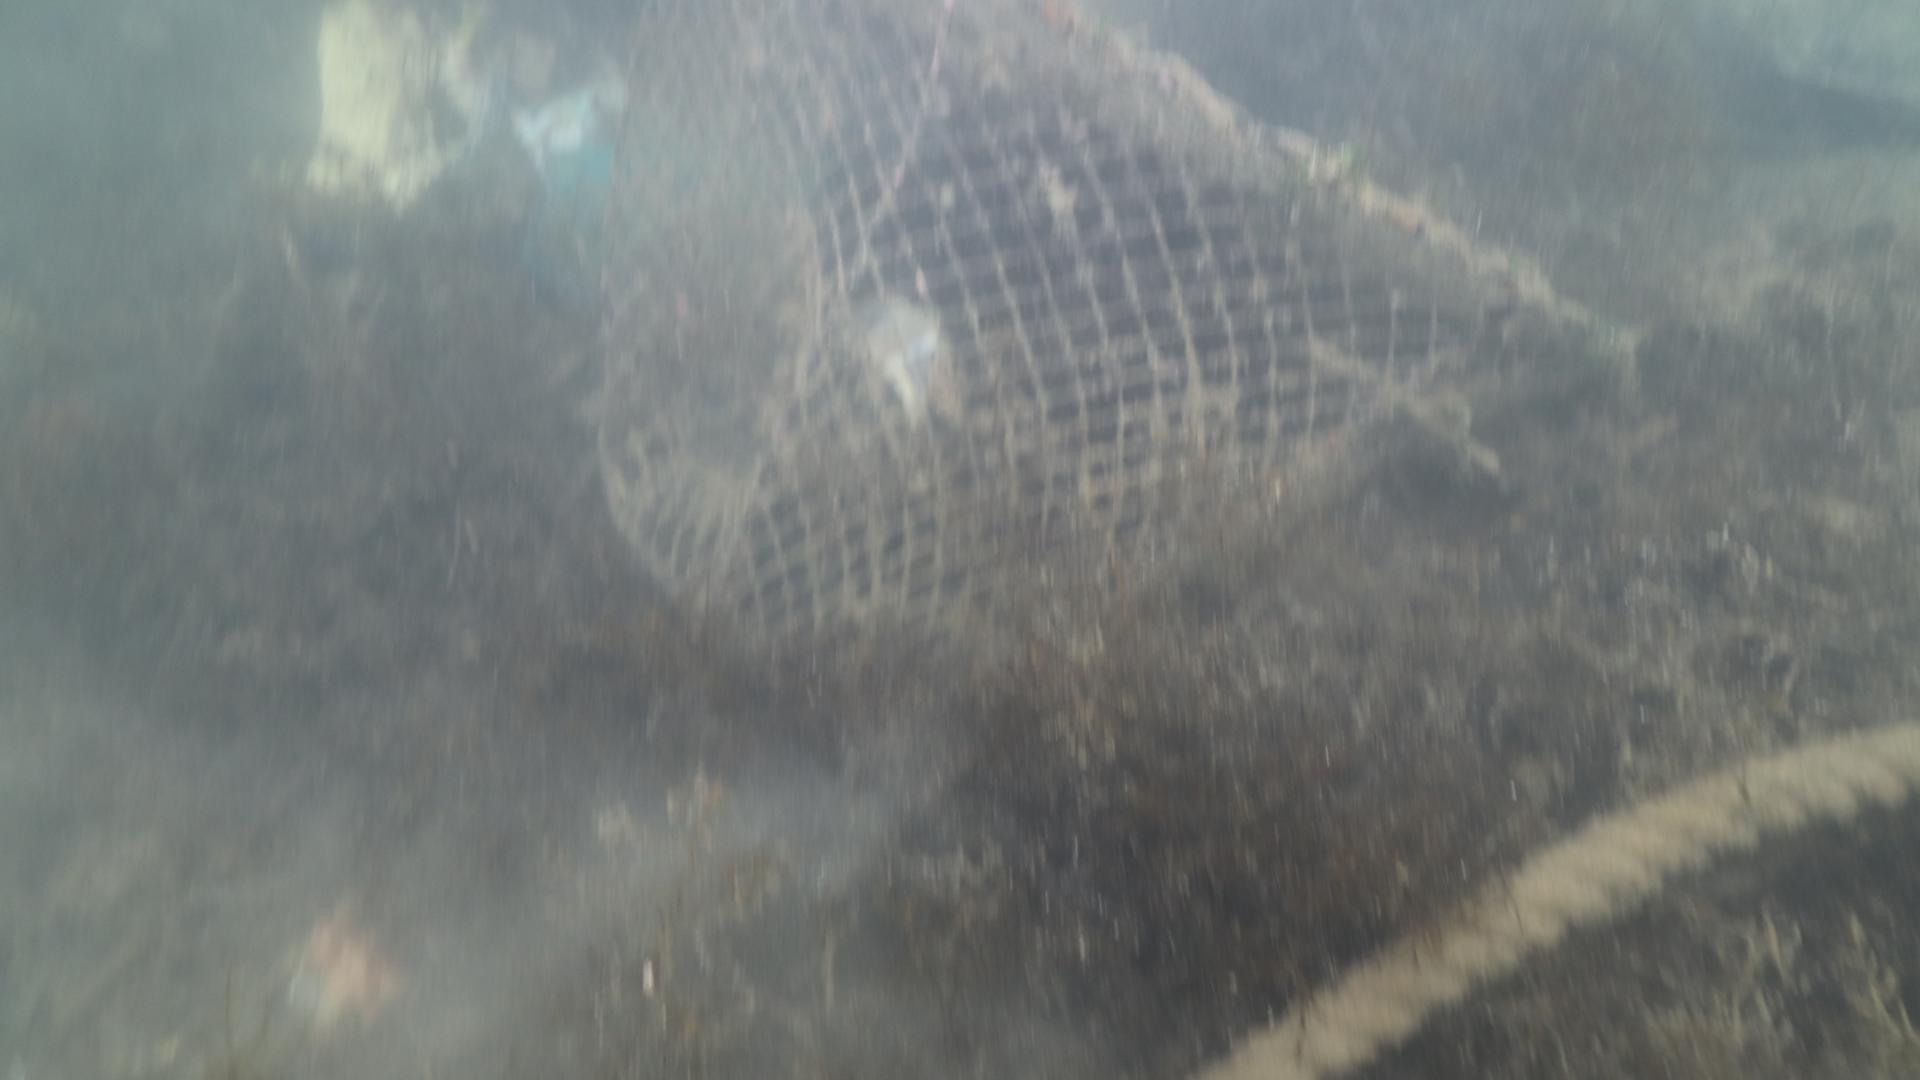circular fish trap: (597, 0, 1638, 671)
rope: (1188, 721, 1920, 1080)
